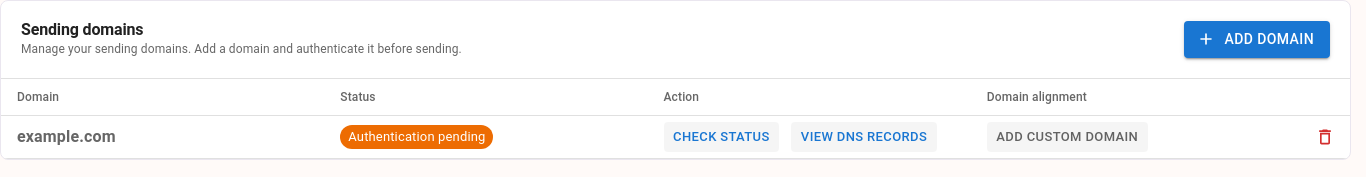
Scenario: Manual DNS setup › checks status from the list row
What coordinates should you click on to do the following:
click the button "Check status"
I would click on:
 (721, 137)
Its box is [664, 122, 779, 152].
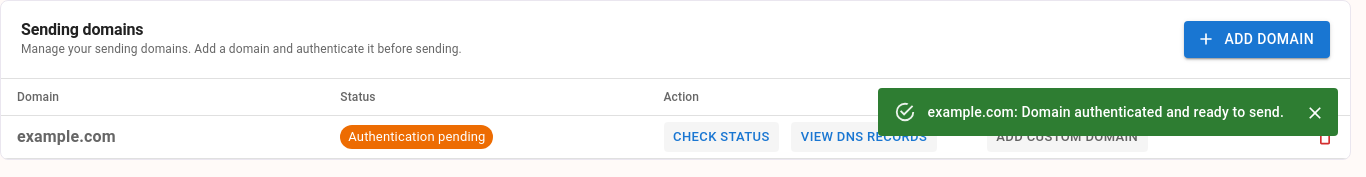
Now the text "example.com: Domain authenticated and ready to send." is shown, box [928, 104, 1284, 120]
